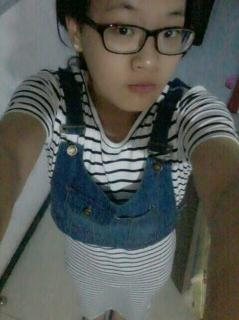short sleeve dress: (4, 67, 239, 319)
